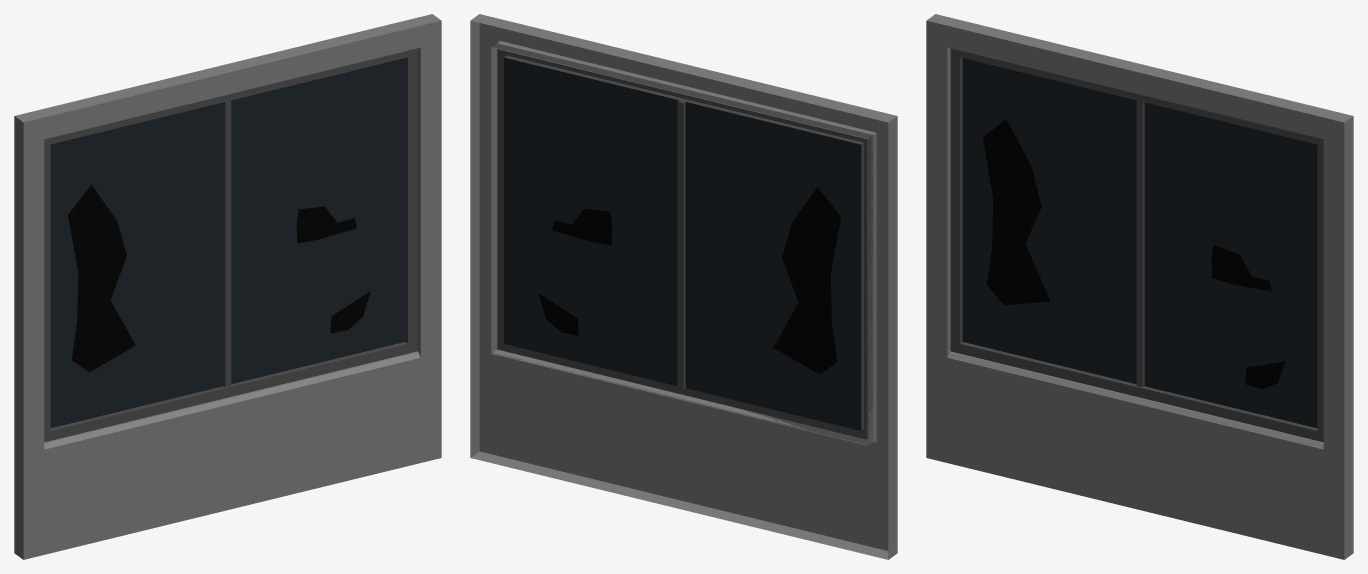
Rendered from front8_c.fbx.
3 views of the same model, side by side, from view 1: azimuth 30°, elevation 25°; view 2: azimuth 150°, elevation 25°; view 3: azimuth 330°, elevation 25° (orthographic).
Parts seen in each view (by area): view 1: Cube.024; view 2: Cube.024; view 3: Cube.024.
Part boxes in pixels (box(x1,y1,x2,y2)): Cube.024: box(14, 14, 441, 559); Cube.024: box(470, 14, 897, 559); Cube.024: box(926, 14, 1353, 559).
Bounding box in the file's own units: 400 × 400 × 15.
